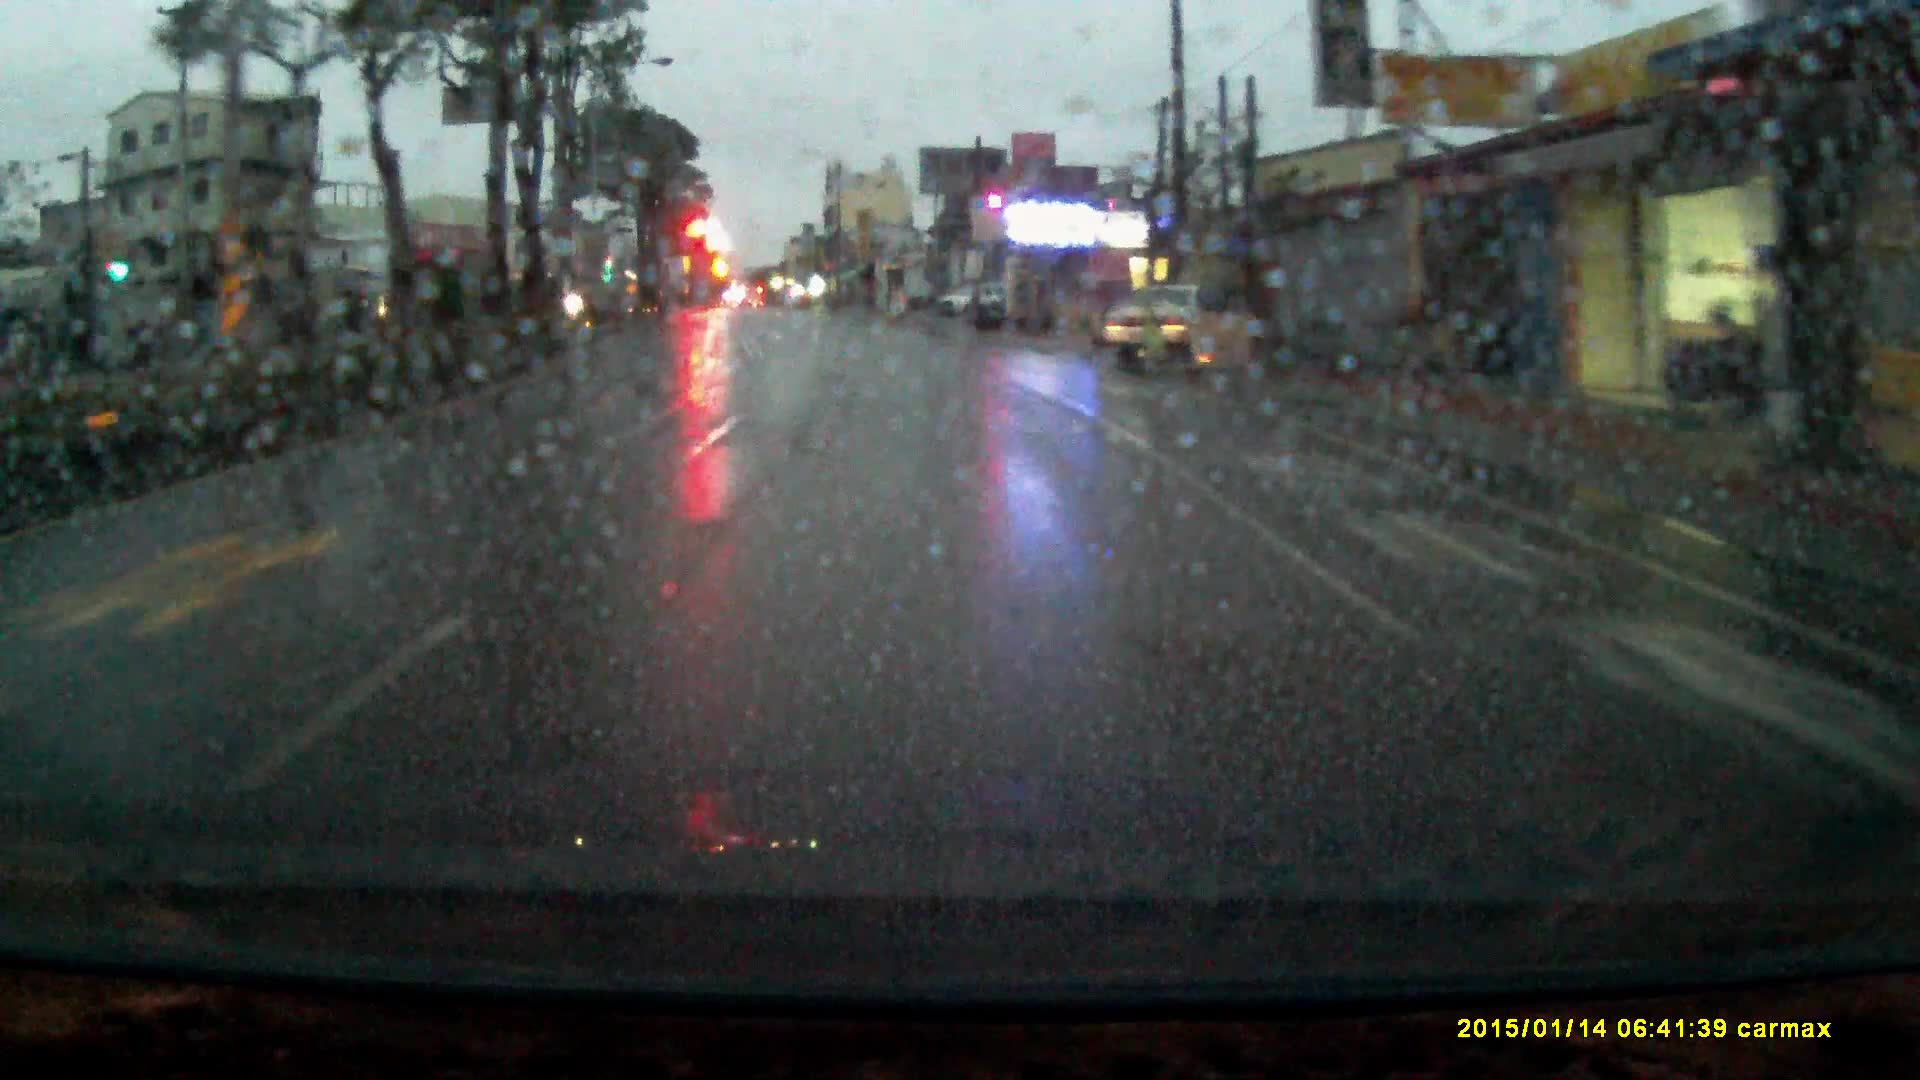vehicle: (1112, 291, 1255, 380), (936, 284, 1013, 322)
